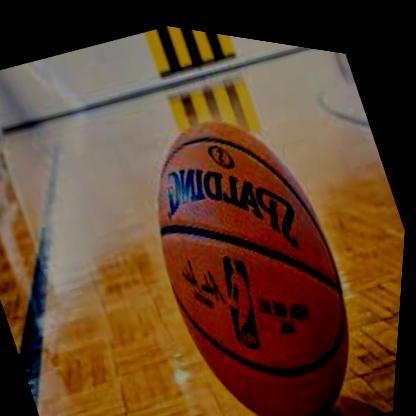basketball: (113, 76, 398, 416)
